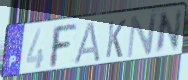4: (25, 27, 46, 70)
A: (73, 20, 102, 65)
F: (50, 23, 78, 70)
K: (104, 18, 128, 59)
N: (126, 12, 159, 60), (153, 8, 184, 57)
